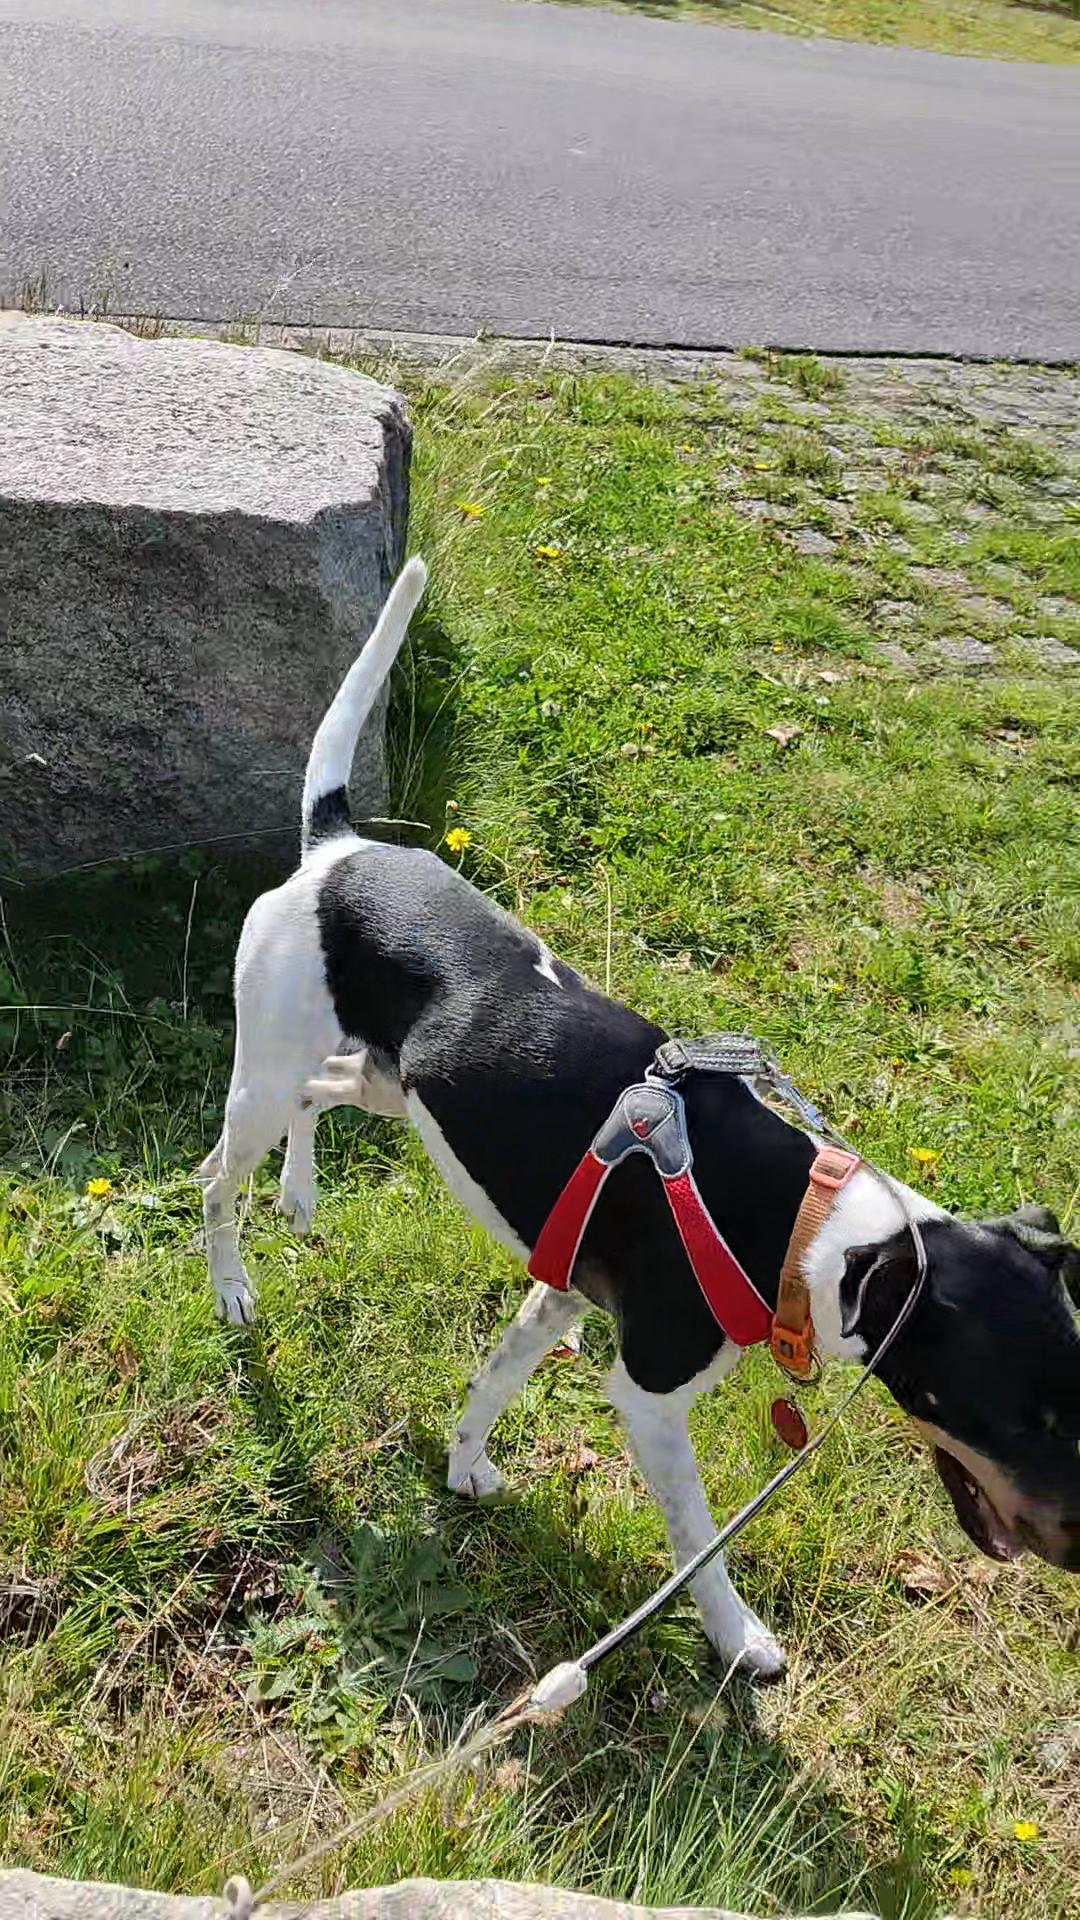Dog: (181, 542, 1079, 1695)
